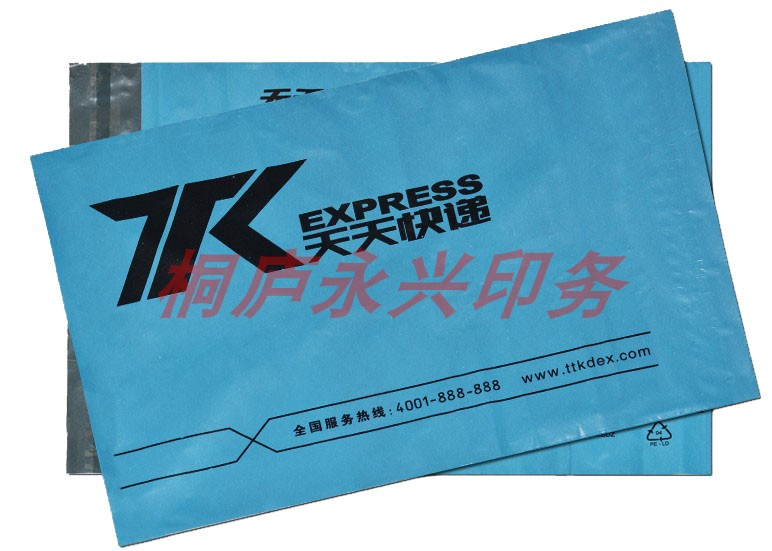塑料袋: (33, 12, 761, 542), (66, 62, 712, 473)
